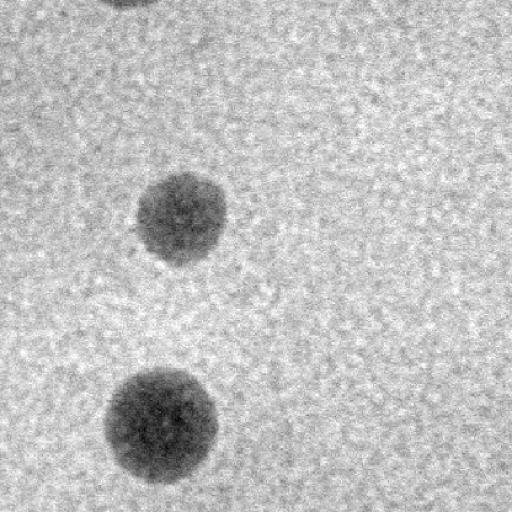Nanoparticles: (101, 364, 223, 486), (133, 169, 231, 266), (98, 0, 160, 9)
